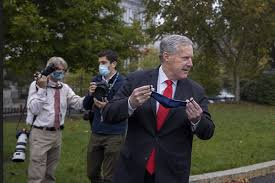mask: (50, 70, 66, 80), (98, 64, 111, 75)
